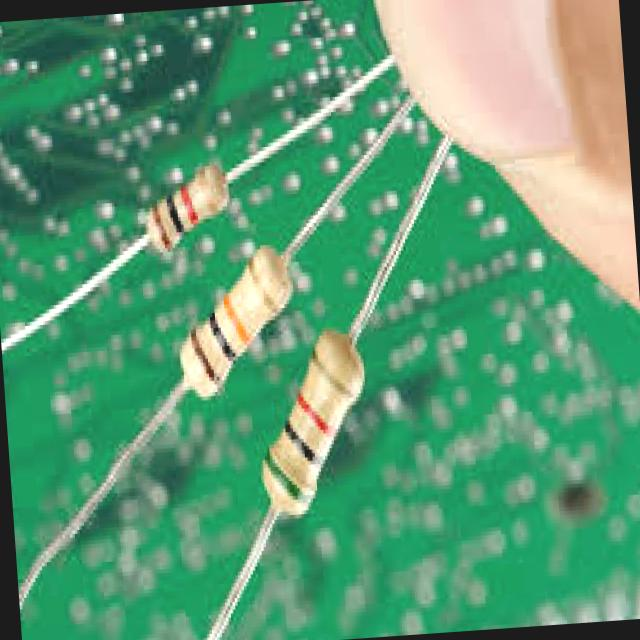Resistor: (263, 334, 363, 515), (182, 248, 293, 396), (148, 165, 229, 252)
black: (277, 417, 322, 466), (204, 305, 234, 359), (163, 191, 183, 234)
brown: (188, 325, 221, 387), (151, 196, 174, 254)
gold: (307, 343, 355, 400), (243, 253, 276, 311), (196, 159, 218, 214)
red: (296, 393, 337, 435), (177, 179, 199, 226)
